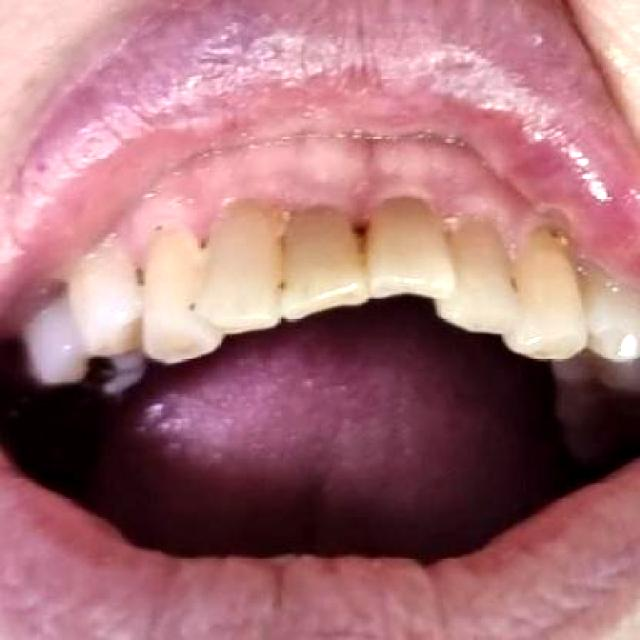Plaque: (120, 175, 398, 261)
